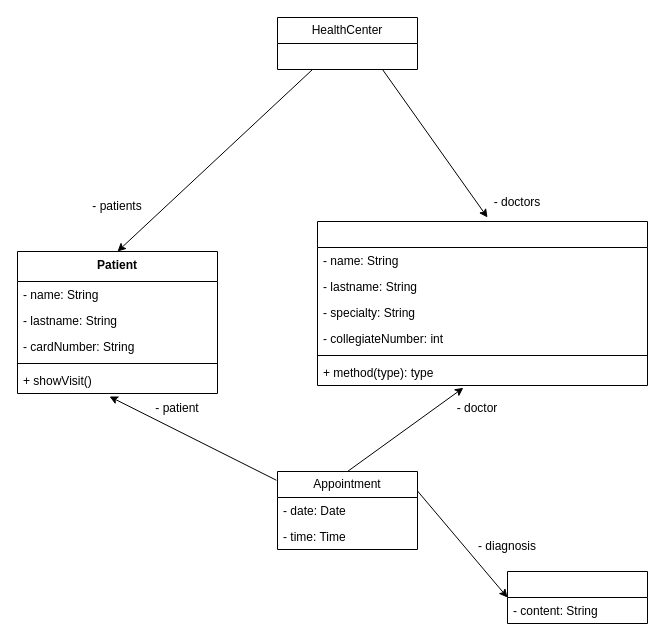
The diagram is 665 pixels wide and 644 high, and some of its shapes have lost their labels. The shapes that lost their labels are listed below. From the top down, each one's box as (x1, y1, x2, y2) in pixels, then its label:
(316, 220, 648, 386): Doctor
(506, 570, 648, 624): Diagnosis
